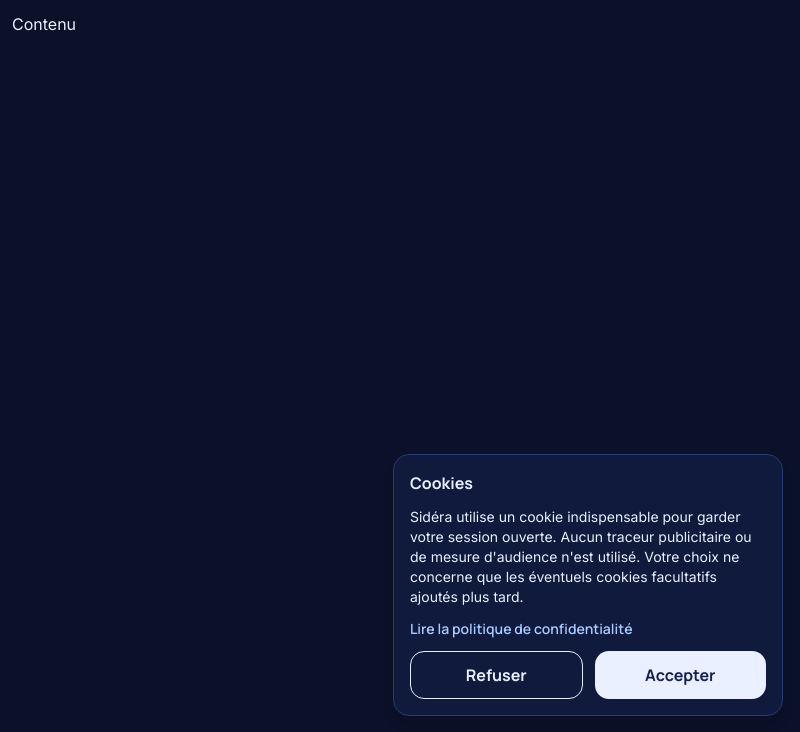
Test case: AppRoot cookie banner › links to the privacy policy
The width and height of the screenshot is (800, 732).
Click the button "Lire la politique de confidentialité" at (521, 629), box [410,619,632,639]
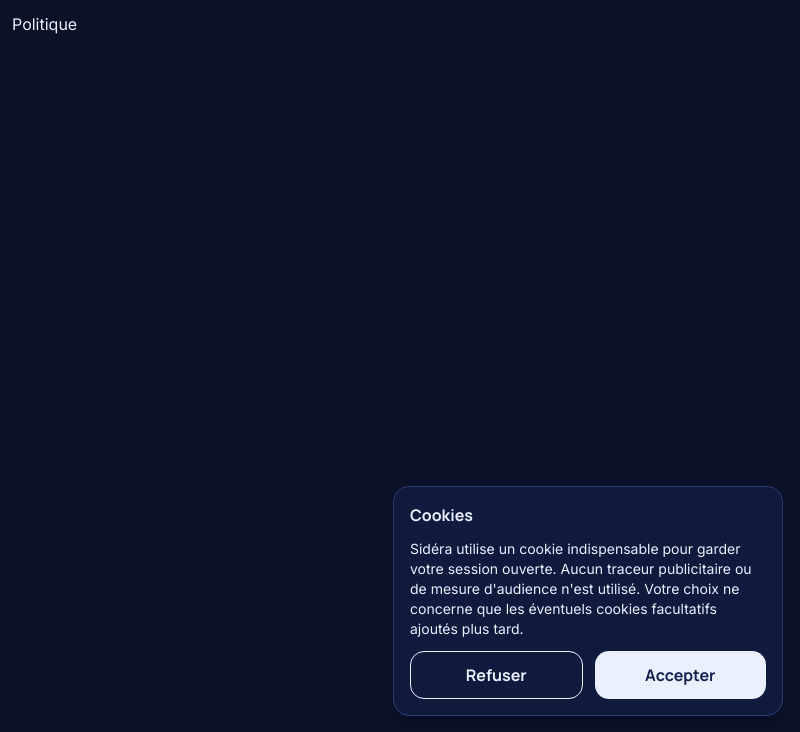
Expected: the text "Politique" is shown, [12,14,77,34]
Now the button with id "cookie-banner__link--privacy" is gone
